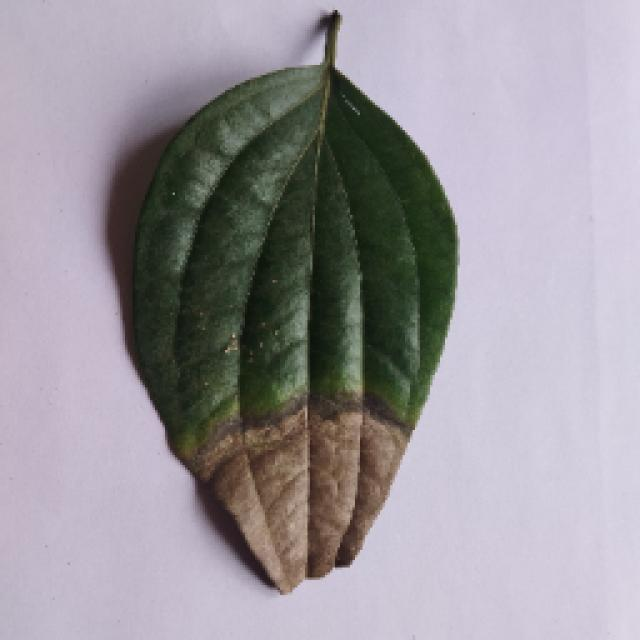footrot: (127, 15, 455, 590)
